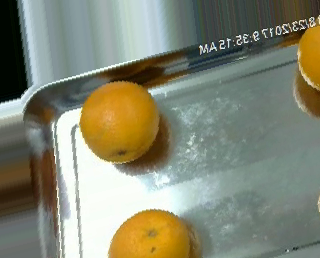Orange: (79, 81, 159, 163)
